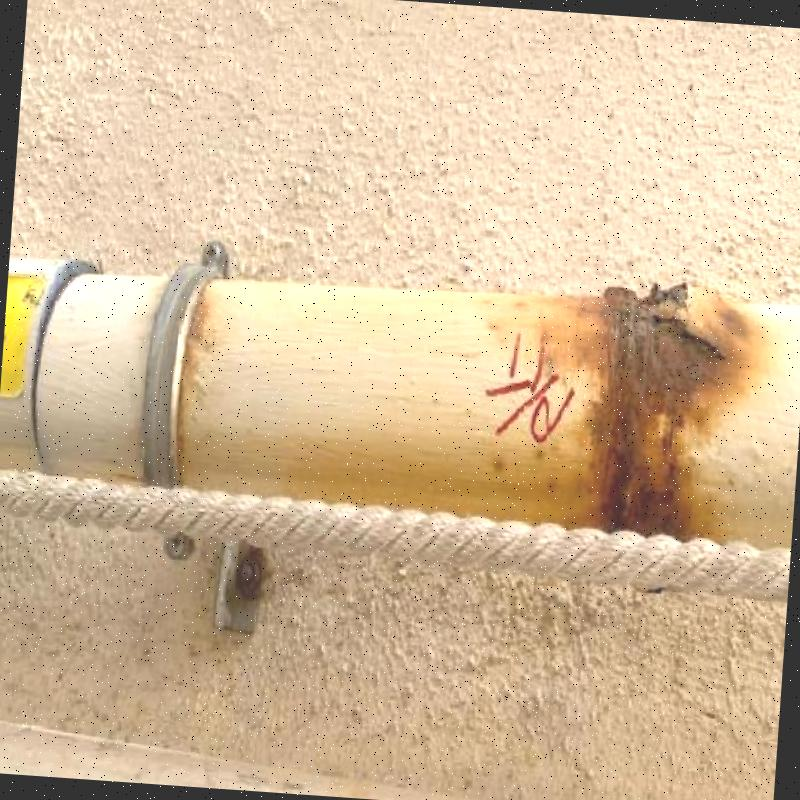corrosion: (586, 282, 698, 528)
